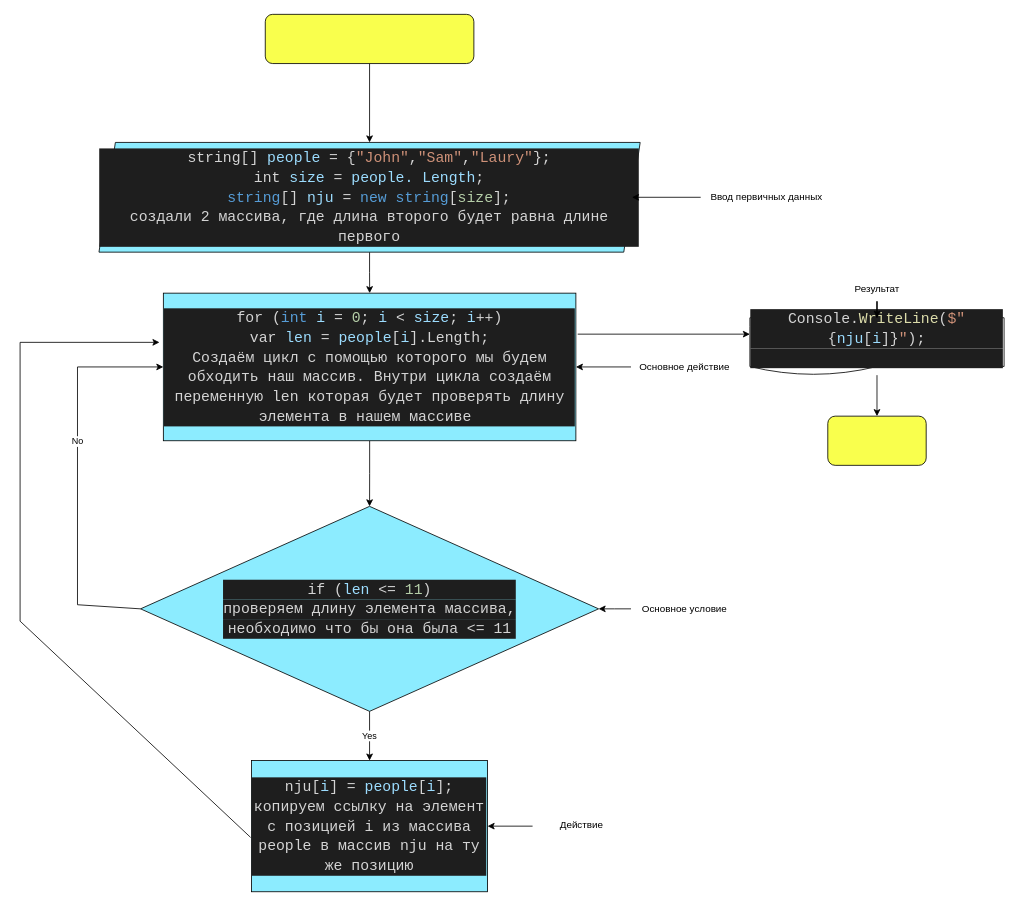
This 1018x906 diagram has some shape labels left out. The centre of each missing label's shape, as x and y in pixels:
"End" goes at point (876, 440).
"Start" goes at point (369, 39).
